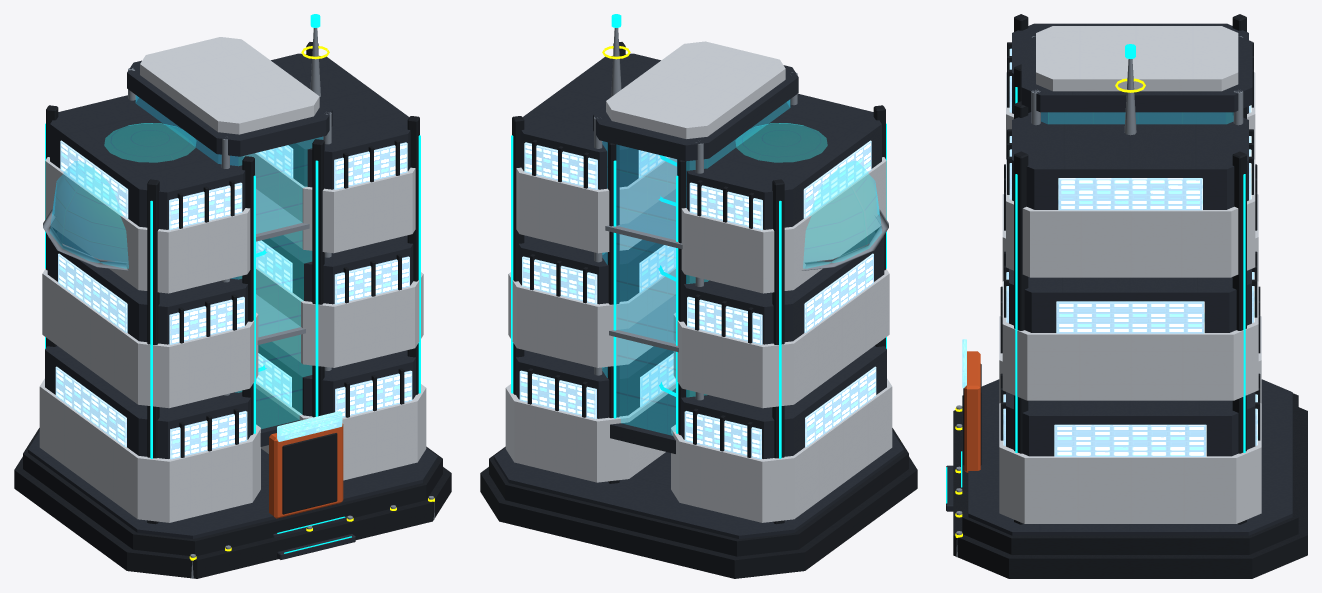
File: bldg_05_r1_03.glb
3 renders of one model, left to right at view 1: azimuth 30°, elevation 25°; view 2: azimuth 150°, elevation 25°; view 3: azimuth 270°, elevation 25°, orthographic. The views are drawn at different scales.
Parts seen in each view (by area): view 1: Bldg05_C03_aero_white, Bldg05_C03_carbon_slate, Bldg05_C03_gunmetal, Bldg05_C03_glass_cyan, Bldg05_C03_window_lit, Bldg05_C03_steel_machined, Bldg05_C03_led_cyan, Bldg05_C03_accent_orange, Bldg05_C03_marquee; view 2: Bldg05_C03_aero_white, Bldg05_C03_carbon_slate, Bldg05_C03_gunmetal, Bldg05_C03_glass_cyan, Bldg05_C03_window_lit, Bldg05_C03_steel_machined, Bldg05_C03_led_cyan; view 3: Bldg05_C03_aero_white, Bldg05_C03_carbon_slate, Bldg05_C03_gunmetal, Bldg05_C03_window_lit, Bldg05_C03_glass_cyan, Bldg05_C03_led_cyan, Bldg05_C03_accent_orange, Bldg05_C03_steel_machined.
Boxes of the visible parts, x1,y1,x2,y2 form: Bldg05_C03_aero_white: (39,37,426,522); Bldg05_C03_carbon_slate: (28,53,437,559); Bldg05_C03_gunmetal: (14,42,451,578); Bldg05_C03_glass_cyan: (50,95,322,428); Bldg05_C03_window_lit: (55,140,412,459); Bldg05_C03_steel_machined: (43,28,434,578); Bldg05_C03_led_cyan: (45,14,420,553); Bldg05_C03_accent_orange: (269,423,343,518); Bldg05_C03_marquee: (277,411,342,441); Bldg05_C03_aero_white: (505,41,892,522); Bldg05_C03_carbon_slate: (494,53,903,538); Bldg05_C03_gunmetal: (480,42,917,578); Bldg05_C03_glass_cyan: (602,100,881,435); Bldg05_C03_window_lit: (519,140,876,459); Bldg05_C03_steel_machined: (594,28,888,400); Bldg05_C03_led_cyan: (511,14,886,458); Bldg05_C03_aero_white: (999,26,1261,523); Bldg05_C03_carbon_slate: (946,23,1292,535); Bldg05_C03_gunmetal: (953,14,1307,578); Bldg05_C03_window_lit: (1003,48,1257,456); Bldg05_C03_glass_cyan: (1041,112,1233,123); Bldg05_C03_led_cyan: (946,44,1245,503); Bldg05_C03_accent_orange: (964,351,980,472); Bldg05_C03_steel_machined: (956,36,1243,557).
Size of the model in its own units: 12.48 by 16.02 by 10.71.
Materials: 11 (11 with a texture image).
